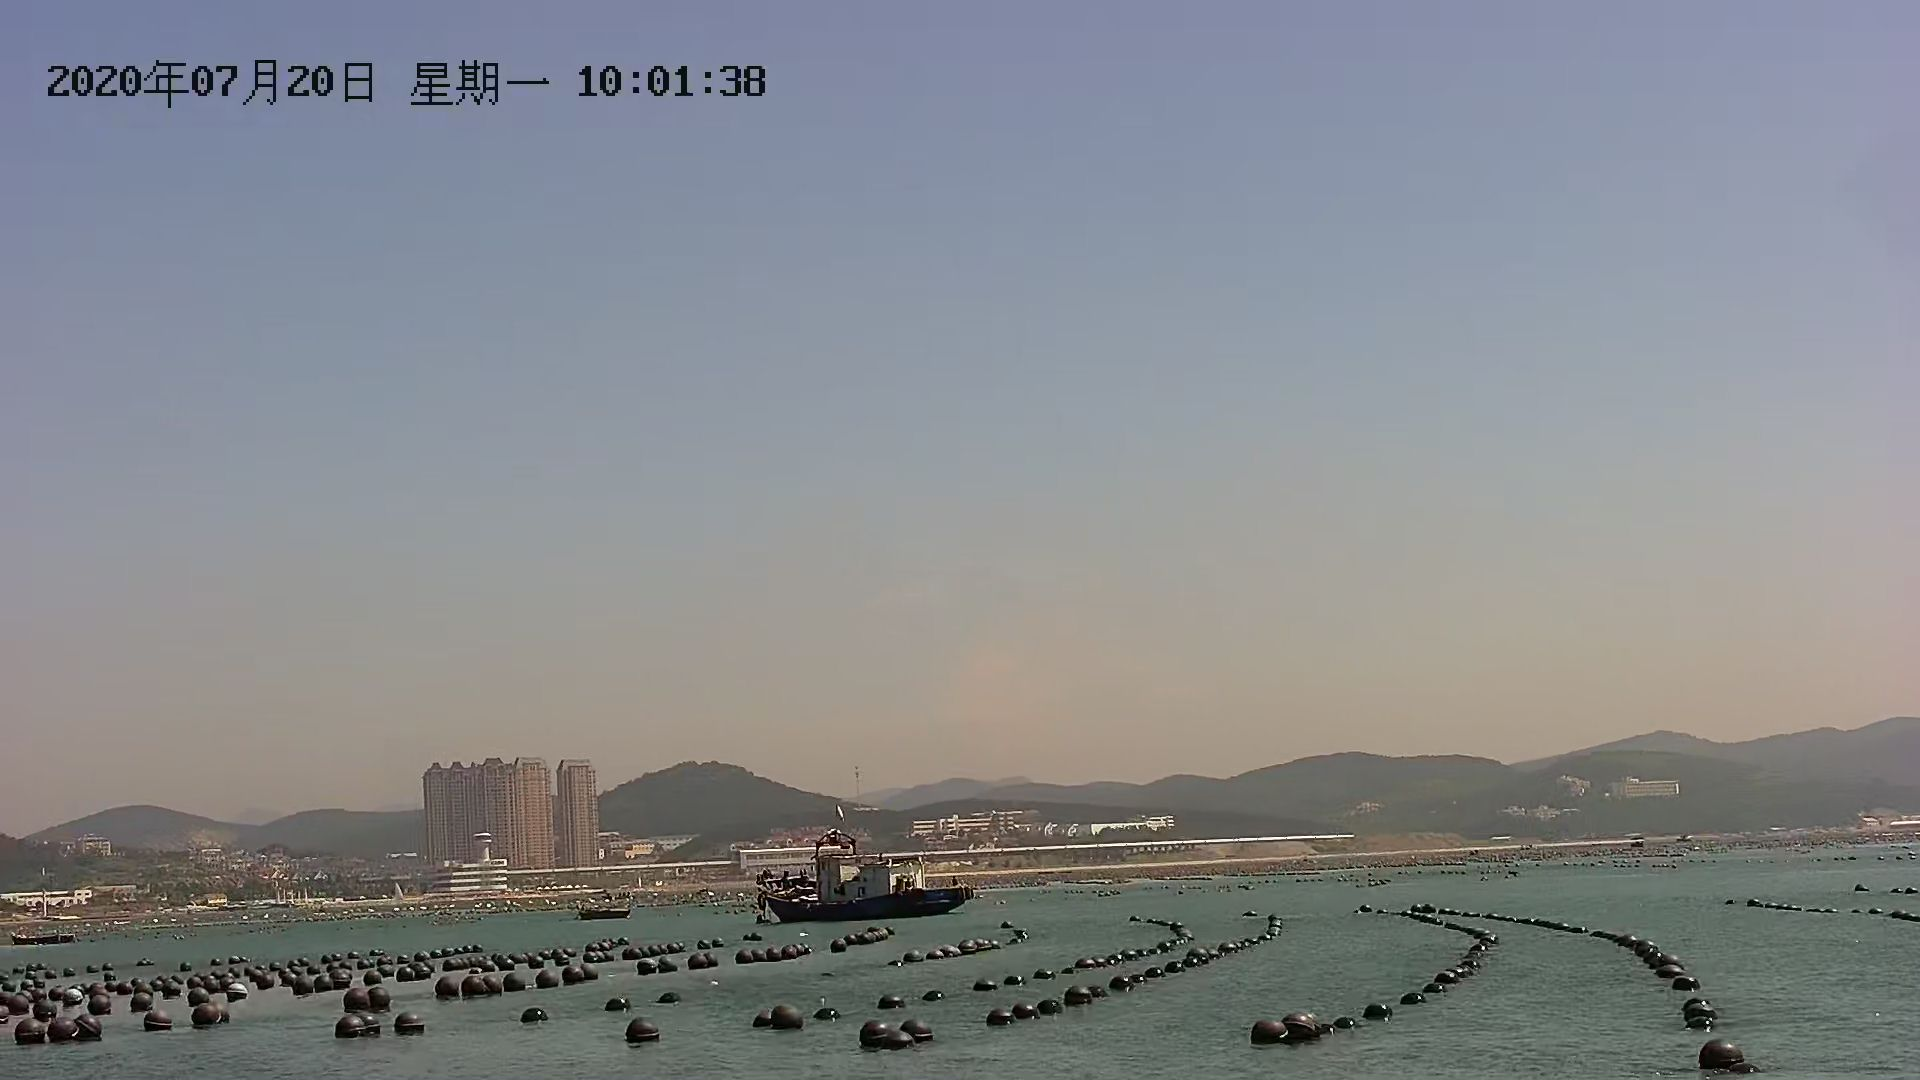ball: (855, 1011, 899, 1055), (1247, 1011, 1290, 1054), (767, 997, 804, 1036), (1701, 1040, 1743, 1073), (901, 1013, 938, 1050), (621, 1018, 669, 1044), (328, 1011, 363, 1044), (396, 1007, 429, 1040), (47, 1017, 82, 1048), (142, 1007, 171, 1040), (18, 1015, 42, 1048), (516, 1007, 553, 1026)
boat: (16, 926, 87, 948), (574, 903, 637, 922)
ship: (742, 828, 968, 926)
